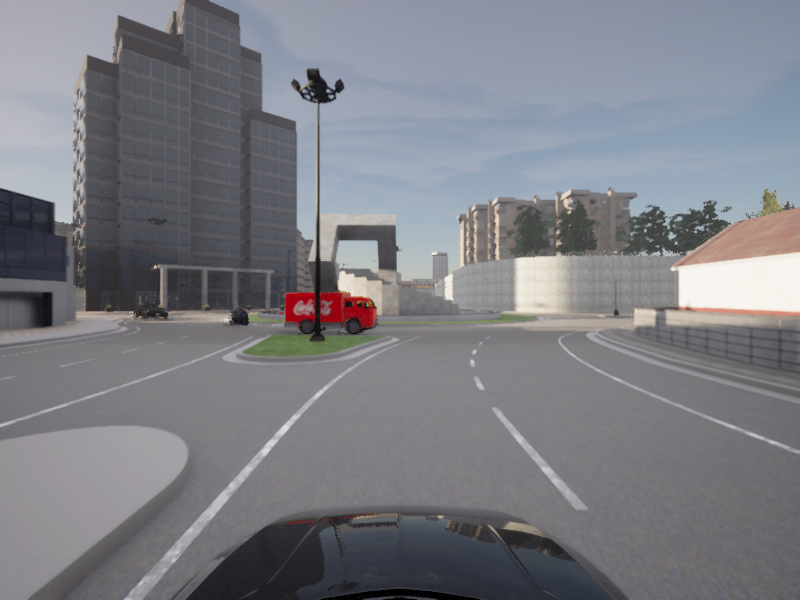vehicle: (282, 291, 379, 335), (132, 302, 170, 320), (224, 306, 253, 327)
